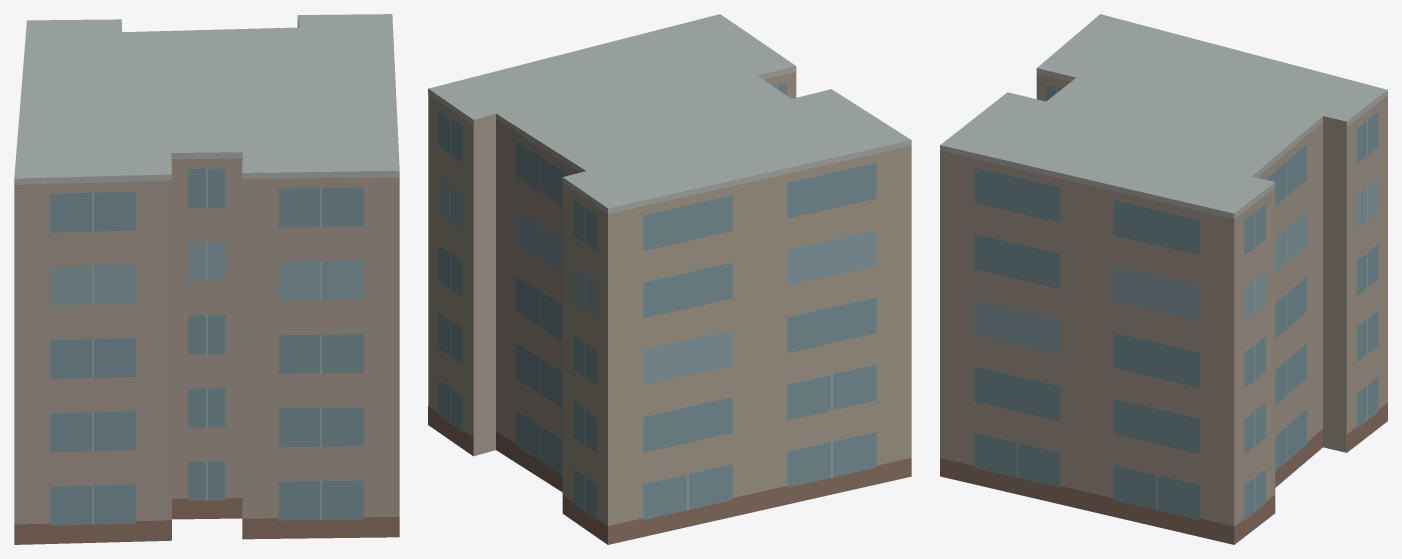
Rendered from survey-upis-33005069.glb.
3 renders of one model, left to right at view 1: azimuth 30°, elevation 25°; view 2: azimuth 150°, elevation 25°; view 3: azimuth 270°, elevation 25°, orthographic. The views are drawn at different scales.
Visible parts, largest first — view 1: survey-upis-33005069.tmp; view 2: survey-upis-33005069.tmp; view 3: survey-upis-33005069.tmp.
Part boxes in pixels (left/top/right/bottom): survey-upis-33005069.tmp: left=14, top=14, right=399, bottom=544; survey-upis-33005069.tmp: left=428, top=14, right=911, bottom=544; survey-upis-33005069.tmp: left=940, top=14, right=1387, bottom=544.
Size of the model in its own units: 18.68 by 14.45 by 17.71.
